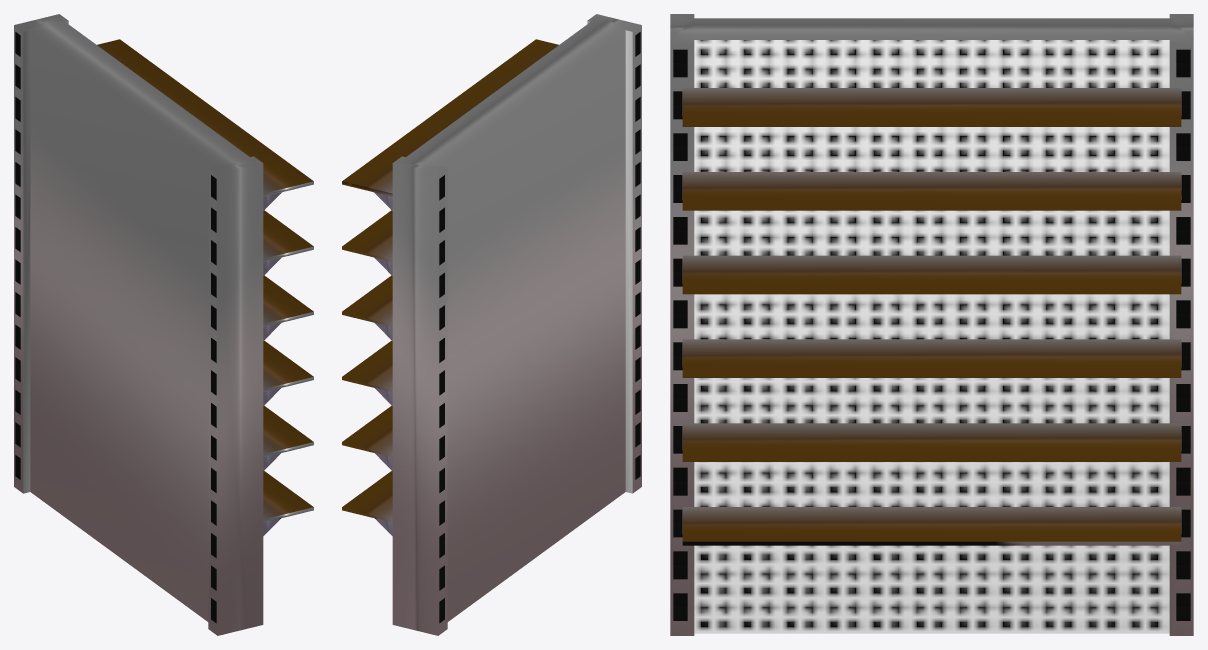
Rendered from PolkaSklep.gltf.
3 renders of one model, left to right at view 1: azimuth 30°, elevation 25°; view 2: azimuth 150°, elevation 25°; view 3: azimuth 270°, elevation 25°, orthographic. The views are drawn at different scales.
Parts seen in each view (by area): view 1: Cube.007; view 2: Cube.007; view 3: Cube.007.
Part boxes in pixels (x1,y1,x2,y2): Cube.007: [14, 14, 313, 635]; Cube.007: [342, 14, 641, 635]; Cube.007: [670, 14, 1193, 635].
Size of the model in its own units: 0.4841 by 2.11 by 1.69.
5 materials, 5 textured.
